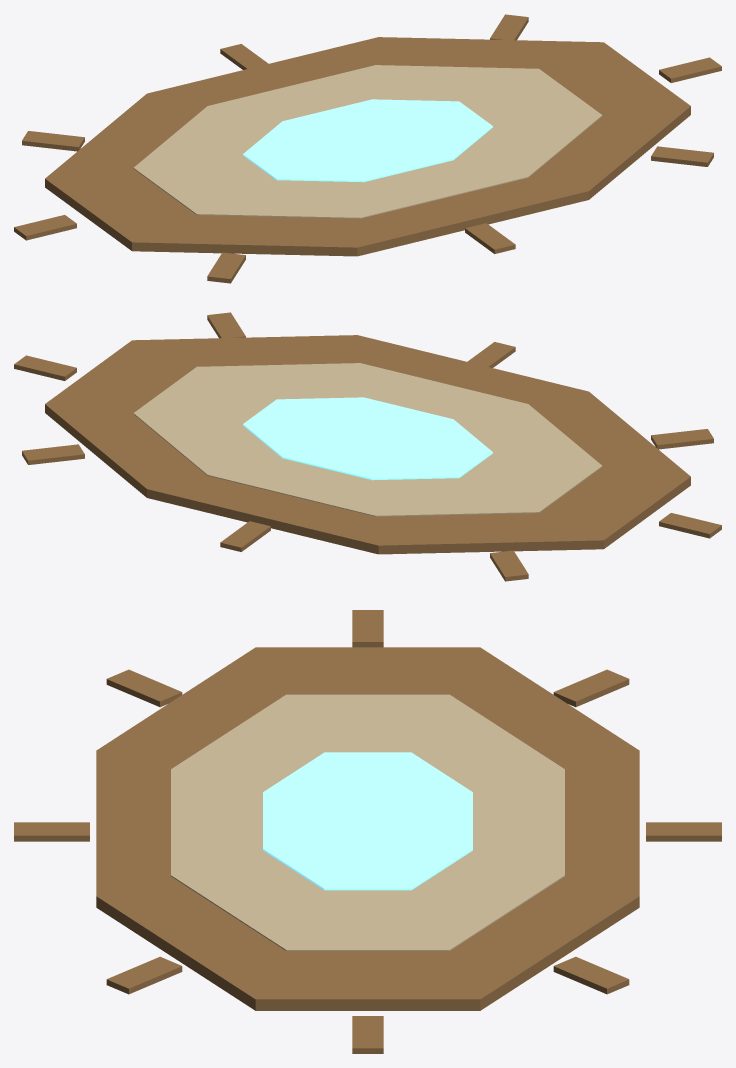
Rendered from woven_rug.glb.
The picture shows the model from 3 angles, top to bottom: view 1: azimuth 30°, elevation 25°; view 2: azimuth 150°, elevation 25°; view 3: azimuth 270°, elevation 25°; orthographic projection. The views are drawn at different scales.
Parts seen in each view (by area): view 1: woven_rug; view 2: woven_rug; view 3: woven_rug.
Boxes of the visible parts, left/top/right/bottom form: woven_rug: left=14, top=14, right=721, bottom=283; woven_rug: left=14, top=312, right=721, bottom=581; woven_rug: left=14, top=610, right=721, bottom=1053.
Size of the model in its own units: 1.64 by 0.025 by 1.12.
